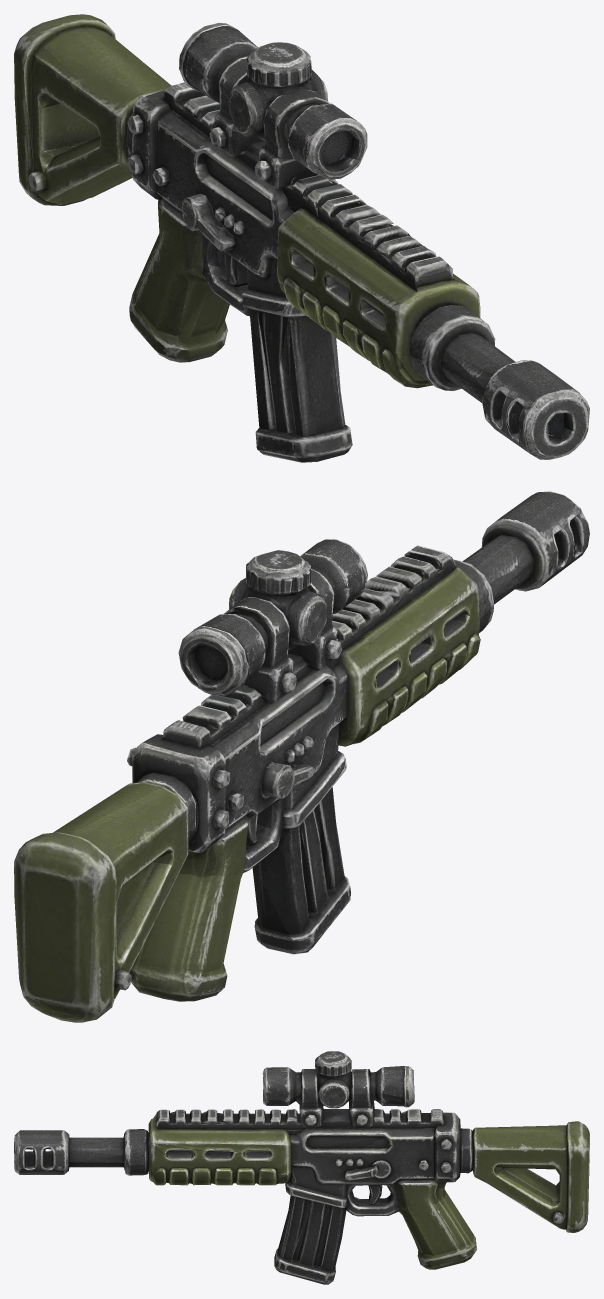
The model's file is gun_trey.glb.
3 views of the same model, one above another, from view 1: azimuth 30°, elevation 25°; view 2: azimuth 150°, elevation 25°; view 3: azimuth 270°, elevation 25° (orthographic). The views are drawn at different scales.
Size of the model in its own units: 0.1581 by 0.6083 by 1.42.
Materials: 1 (1 with a texture image).
